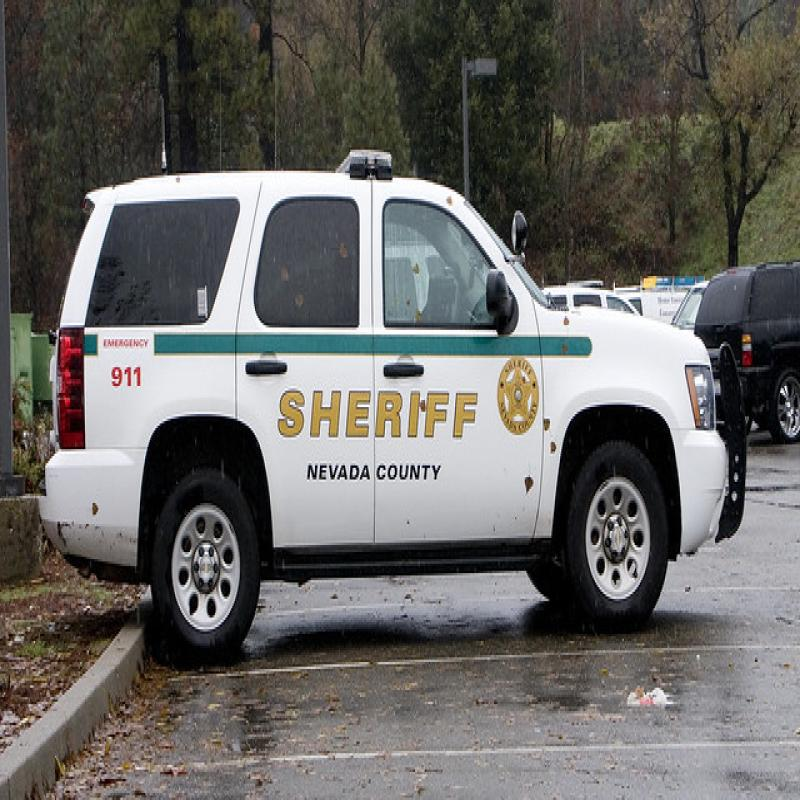AmbulanceSiren: (326, 140, 394, 190)
